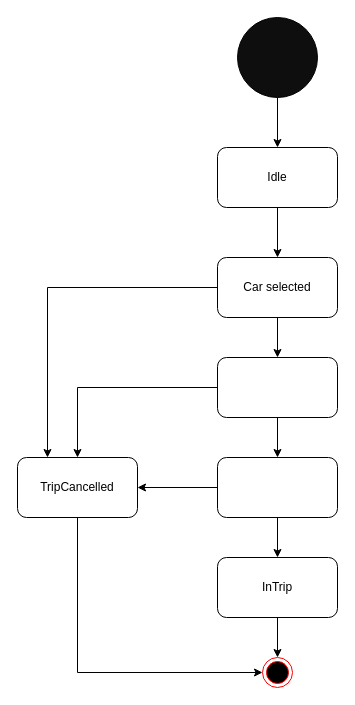
The diagram is 355 pixels wide and 705 high, and some of its shapes have lost their labels. Each missing label, with the box of its shape:
CarArrived: (216, 456, 338, 518)
OrderConfirmed: (216, 356, 338, 418)
